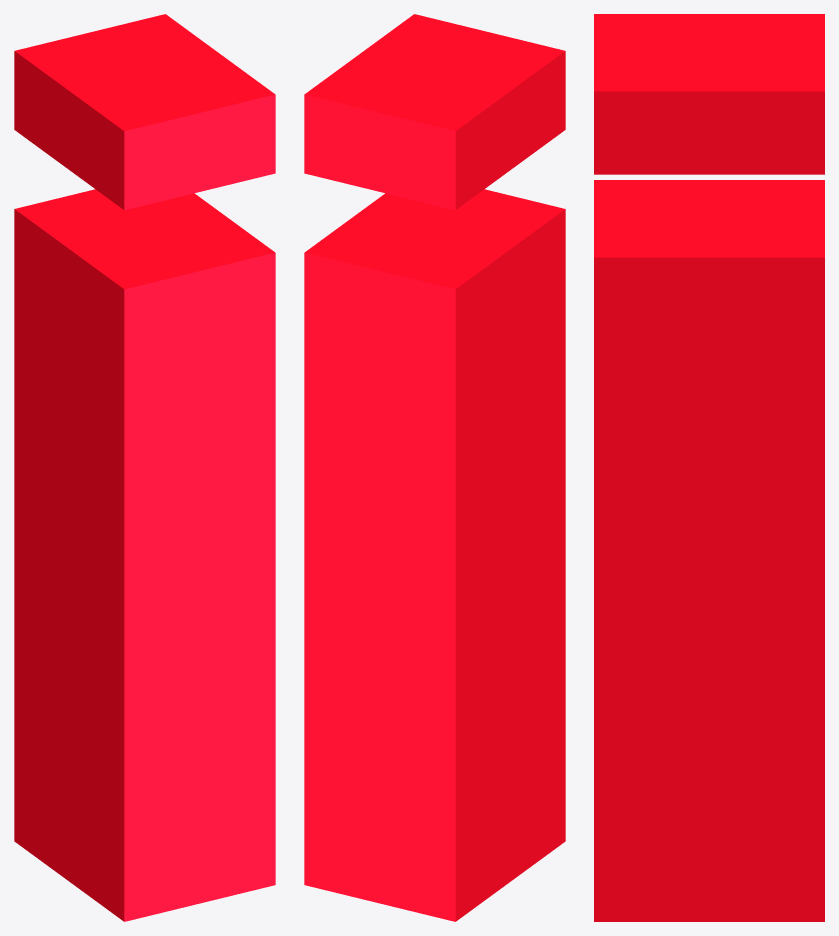
The model's file is 2d276fcb-cd5d-45ba-90e7-198c9e10525e.glb.
3 renders of one model, left to right at view 1: azimuth 30°, elevation 25°; view 2: azimuth 150°, elevation 25°; view 3: azimuth 270°, elevation 25°, orthographic. The views are drawn at different scales.
Parts seen in each view (by area): view 1: i_DeltaBlock_Red; view 2: i_DeltaBlock_Red; view 3: i_DeltaBlock_Red.
Boxes of the visible parts, <box> form: i_DeltaBlock_Red: <box>14,14,275,921</box>; i_DeltaBlock_Red: <box>304,14,565,921</box>; i_DeltaBlock_Red: <box>594,14,824,921</box>.
Size of what is drawn, in the model's own units: 0.0357 by 0.1786 by 0.045.
2 materials, 2 textured.
